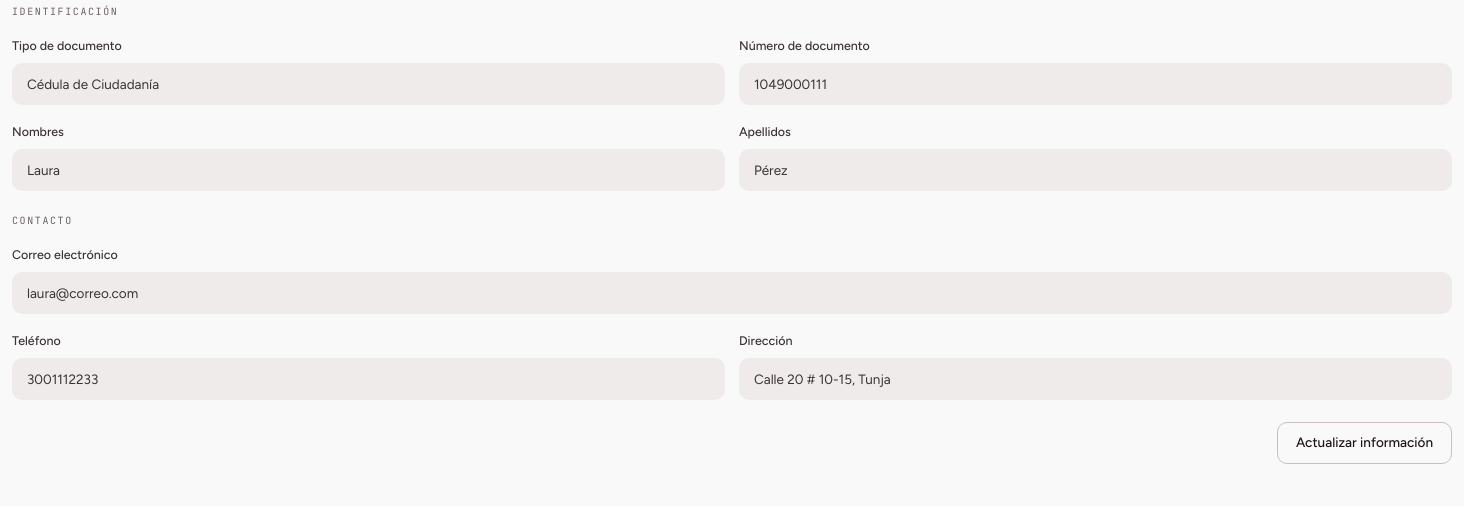
Test case: CustomerDataForm edit mode › enables every field and focuses the first name
The image size is (1464, 506).
Click the button "Actualizar información": (1364, 443) x1=1277 y1=422 x2=1452 y2=464
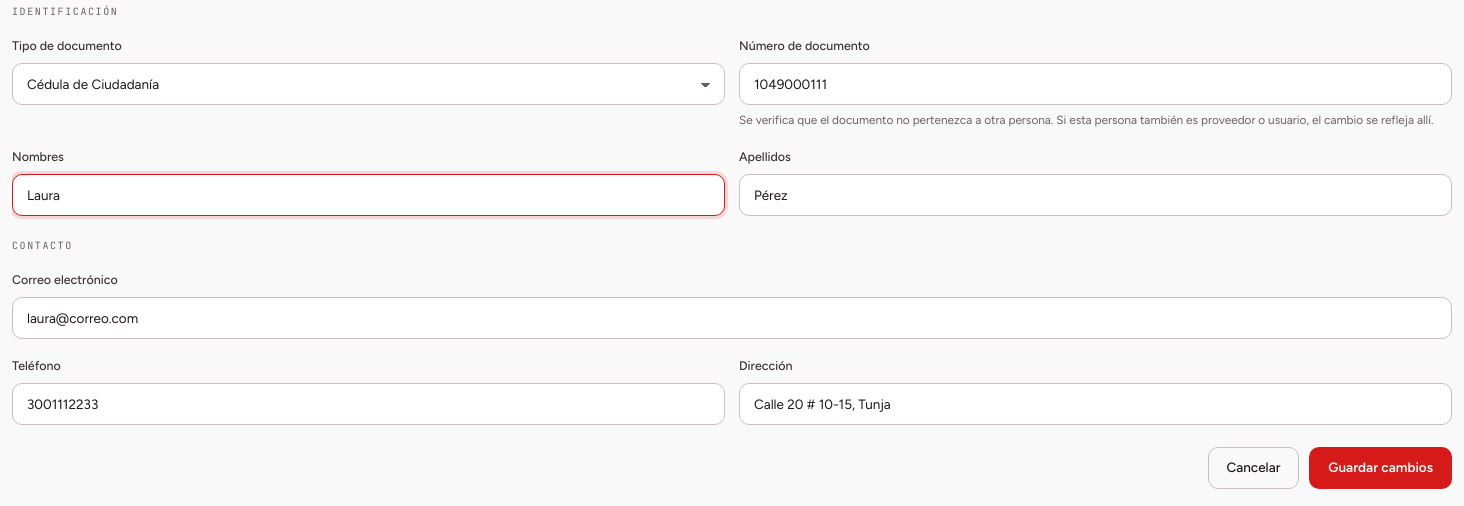
Now the dropdown labelled "Tipo de documento" is enabled, box x1=12 y1=63 x2=725 y2=105
Now the button "Guardar cambios" is enabled, box x1=1309 y1=447 x2=1452 y2=489
Now the button "Actualizar información" is gone
